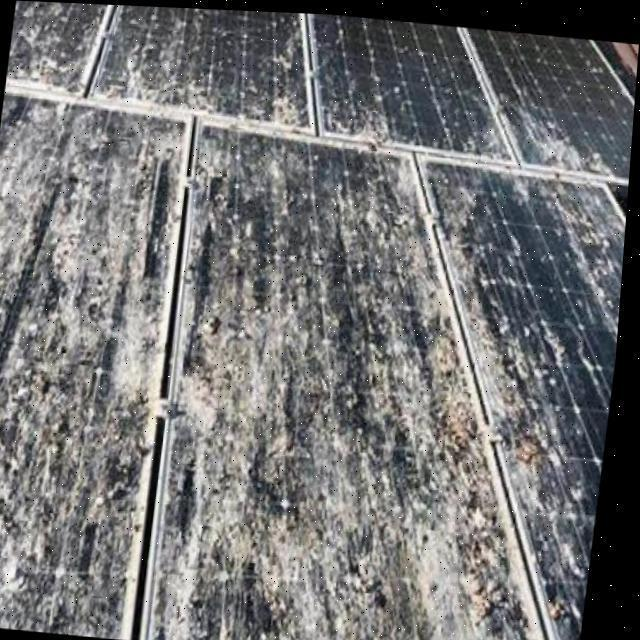Anomaly Solar Panel: (0, 84, 629, 640), (7, 1, 636, 173)
Surface Contaminant: (0, 87, 629, 640), (8, 1, 635, 173)
